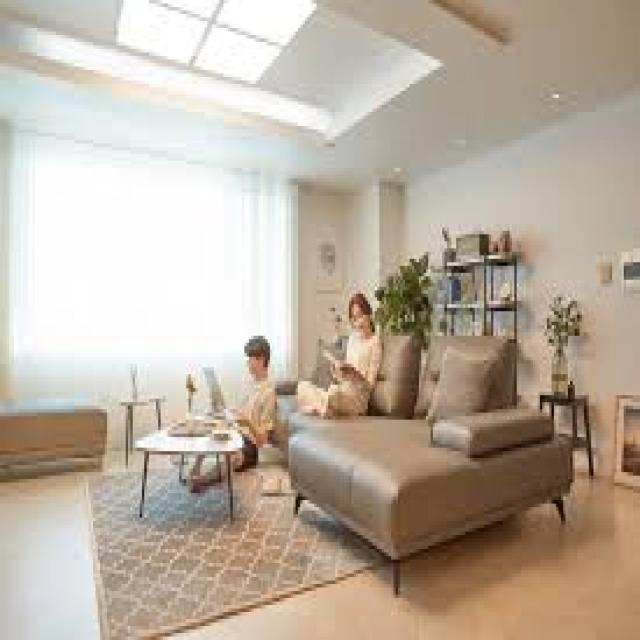Sofa: (284, 336, 576, 605)
Table: (132, 407, 242, 526)
window: (6, 122, 294, 352)
